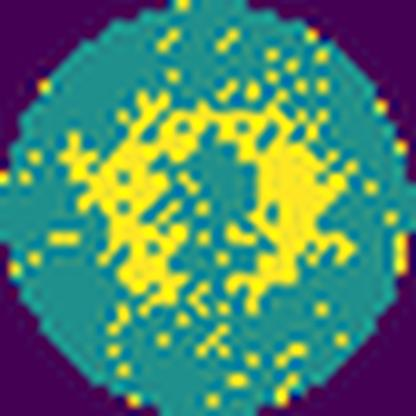Donut: (64, 80, 370, 321)
